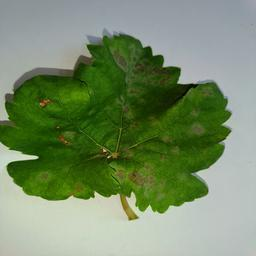Powdery-Mildew: (129, 169, 166, 202)
